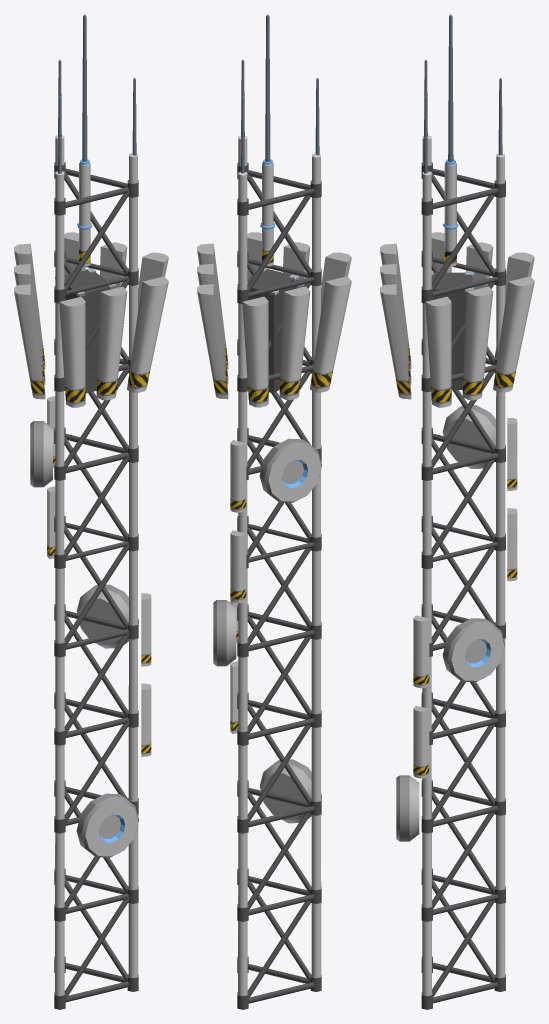
File: Tower2.fbx
3 views of the same model, side by side, from view 1: azimuth 30°, elevation 25°; view 2: azimuth 150°, elevation 25°; view 3: azimuth 270°, elevation 25° (orthographic).
Parts seen in each view (by area): view 1: group43; view 2: group43; view 3: group43.
Boxes of the visible parts, x1,y1,x2,y2 form: group43: (14,14,168,1009); group43: (197,14,351,1009); group43: (380,14,534,1009).
Bounding box in the file's own units: 2.76 × 16.96 × 2.44.
